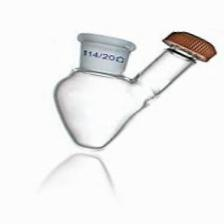Pear shaped flask: (39, 15, 218, 148)
